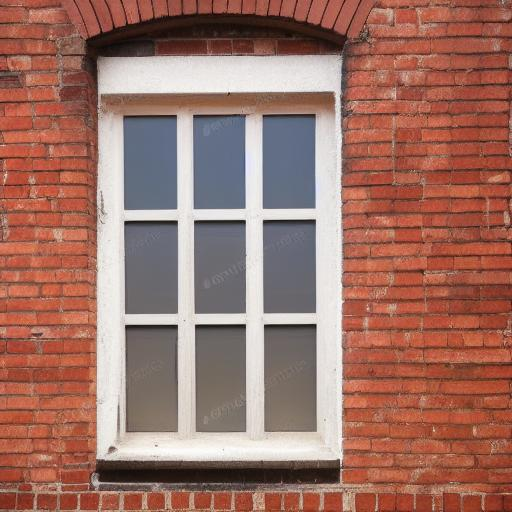Window: (62, 1, 376, 494)
